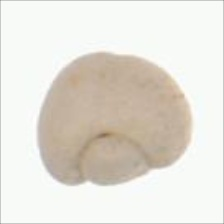L5: (75, 130, 158, 189)
L6: (35, 50, 196, 191)
